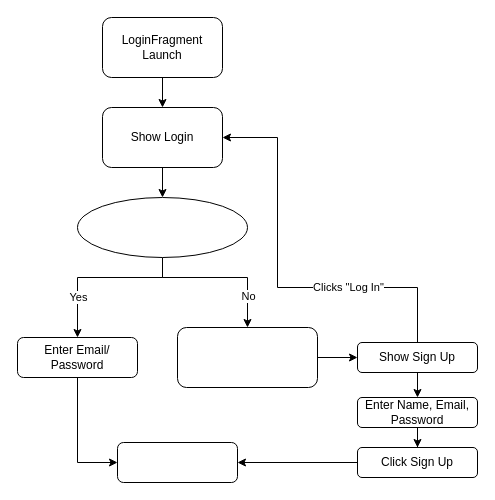
Some shapes in this 495 by 500 pixel diagram are drawn without their labels. The centre of each missing label's shape, as x and y in pixels:
Click on "Don't have an account? Sign Up ": the point at 247,357
Launch Home Fragment: the point at 177,462
User has an account?: the point at 162,227
